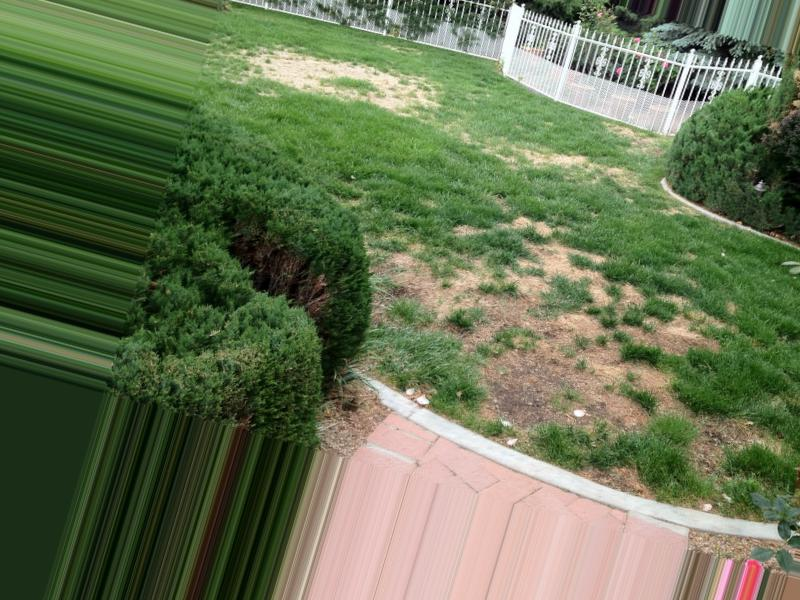patch: (441, 250, 630, 421), (224, 49, 441, 118), (602, 389, 724, 479), (512, 136, 613, 184)
